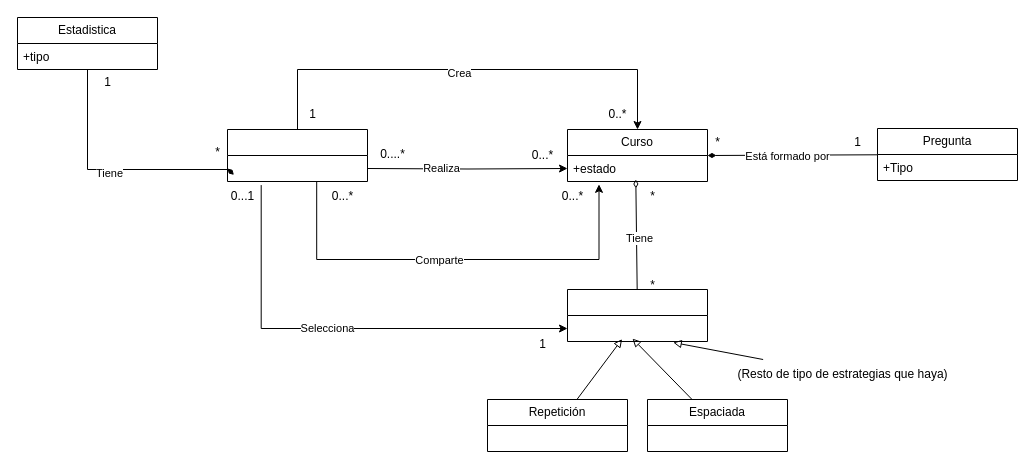
Image size: 1035x469. Some labels were removed from this diagram. The shapes that lost their labels are listed below. From the top down, each one's centre as x and y in pixels, then its label:
At pixel 297 155: "Usuario".
At pixel 637 315: "Estrategia".
